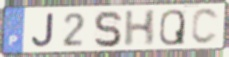2: (61, 12, 88, 49)
C: (189, 7, 220, 46)
H: (123, 8, 158, 48)
J: (30, 12, 55, 49)
Q: (158, 8, 186, 47)
S: (92, 9, 123, 49)
